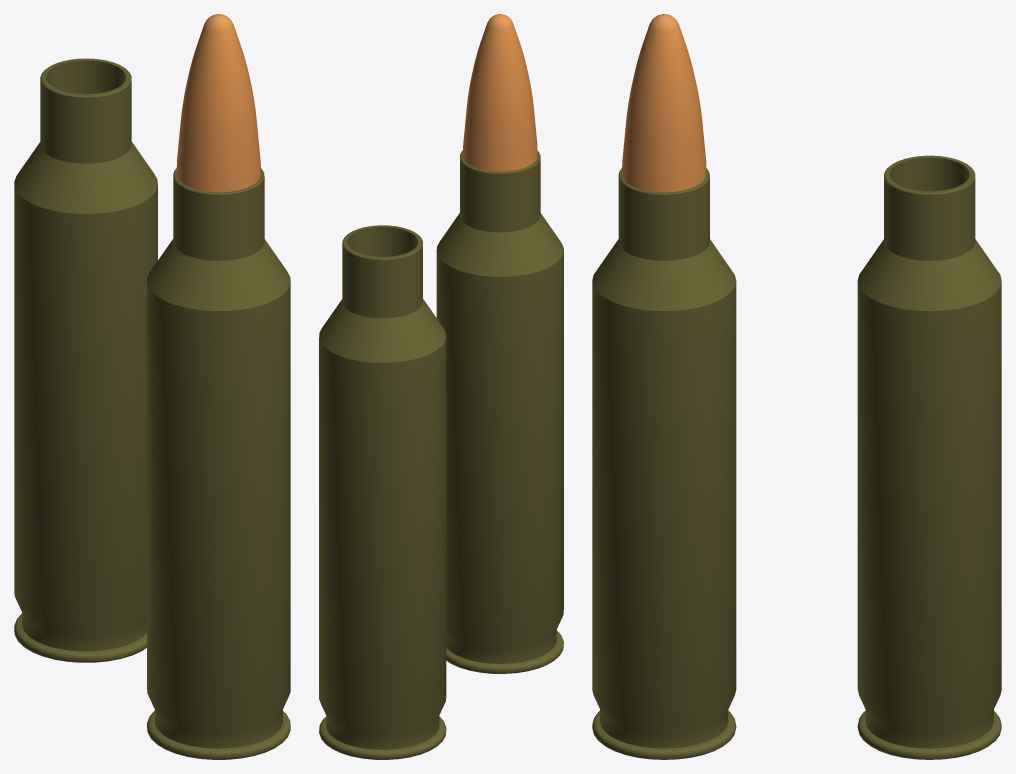
The model's file is Rifle Bullet 1.fbx.
3 views of the same model, side by side, from view 1: azimuth 30°, elevation 25°; view 2: azimuth 150°, elevation 25°; view 3: azimuth 270°, elevation 25° (orthographic). The views are drawn at different scales.
Parts seen in each view (by area): view 1: Shell, Shell.001, Bullet; view 2: Shell.001, Shell, Bullet; view 3: Shell.001, Shell, Bullet.
Part boxes in pixels (bbox=[...]): Shell: bbox=[147, 168, 290, 759]; Shell.001: bbox=[14, 58, 157, 662]; Bullet: bbox=[176, 14, 260, 192]; Shell.001: bbox=[319, 225, 446, 759]; Shell: bbox=[436, 150, 563, 673]; Bullet: bbox=[463, 14, 537, 171]; Shell.001: bbox=[857, 155, 1001, 759]; Shell: bbox=[592, 168, 736, 759]; Bullet: bbox=[622, 14, 706, 192].
Size of the model in its own units: 186 by 1021 by 530.
